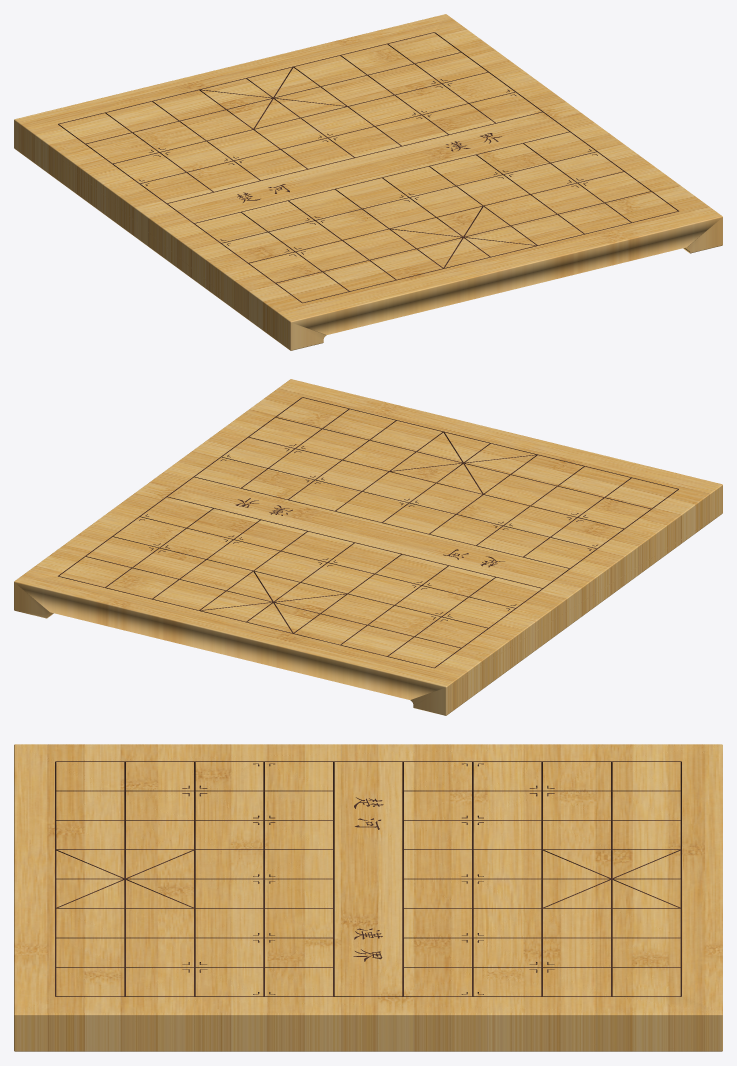
File: chess_board.glb
3 views of the same model, one above another, from view 1: azimuth 30°, elevation 25°; view 2: azimuth 150°, elevation 25°; view 3: azimuth 270°, elevation 25° (orthographic). The views are drawn at different scales.
Parts seen in each view (by area): view 1: ChessBoard_Bamboo; view 2: ChessBoard_Bamboo; view 3: ChessBoard_Bamboo.
Boxes of the visible parts, x1,y1,x2,y2 form: ChessBoard_Bamboo: [14, 14, 722, 350]; ChessBoard_Bamboo: [14, 379, 722, 715]; ChessBoard_Bamboo: [14, 744, 722, 1051].
Bounding box in the file's own units: 0.368 × 0.024 × 0.408.
Materials: 2 (1 with a texture image).
